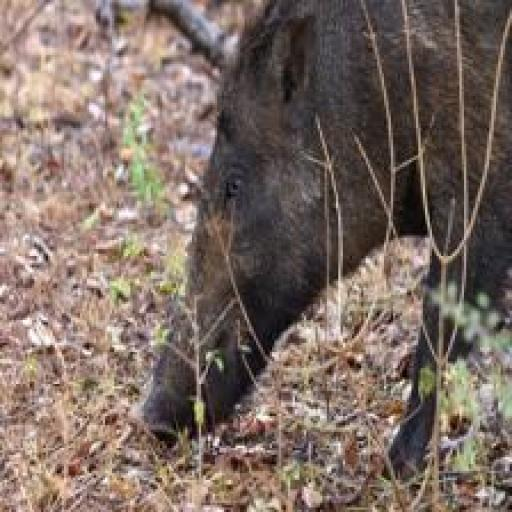Pig: (139, 4, 512, 476)
